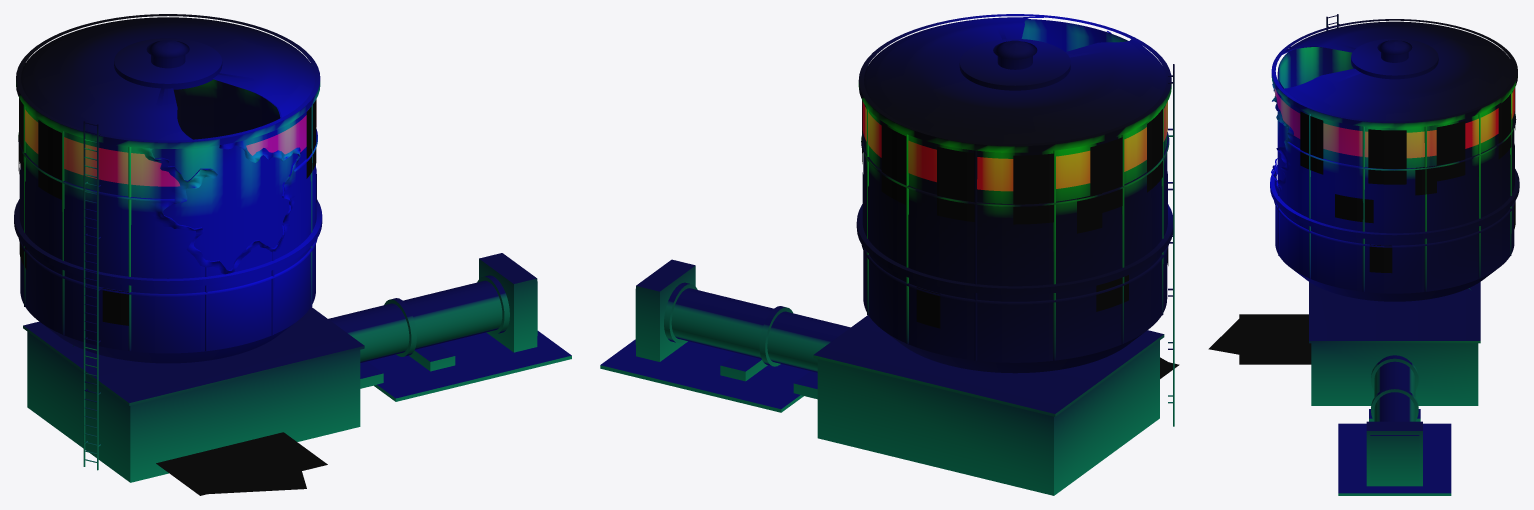
Rendered from pipetank_damaged.glb.
The picture shows the model from 3 angles, left to right: view 1: azimuth 30°, elevation 25°; view 2: azimuth 150°, elevation 25°; view 3: azimuth 270°, elevation 25°; orthographic projection. The views are drawn at different scales.
Visible parts, largest first — view 1: lod0; view 2: lod0; view 3: lod0.
Part boxes in pixels (x1,y1,x2,y2): lod0: (14, 14, 571, 495); lod0: (600, 14, 1179, 495); lod0: (1208, 14, 1519, 495).
Size of what is drawn, in the model's own units: 18.25 by 13.23 by 12.1.
